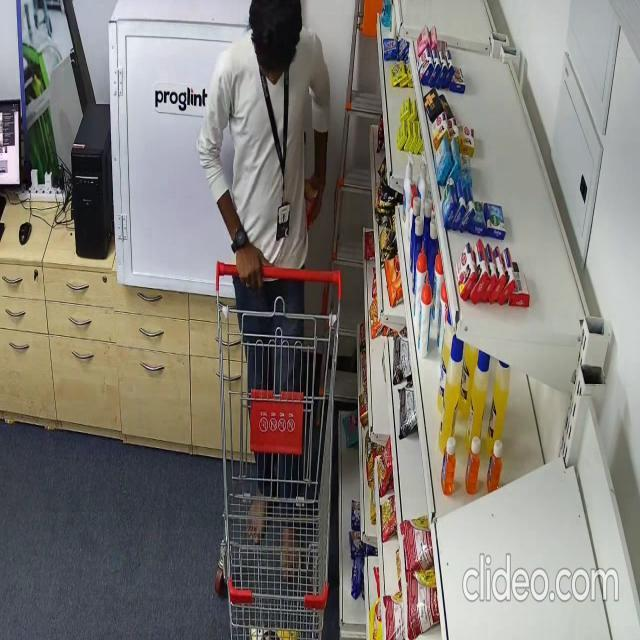Shoplifting: (196, 0, 332, 592)
